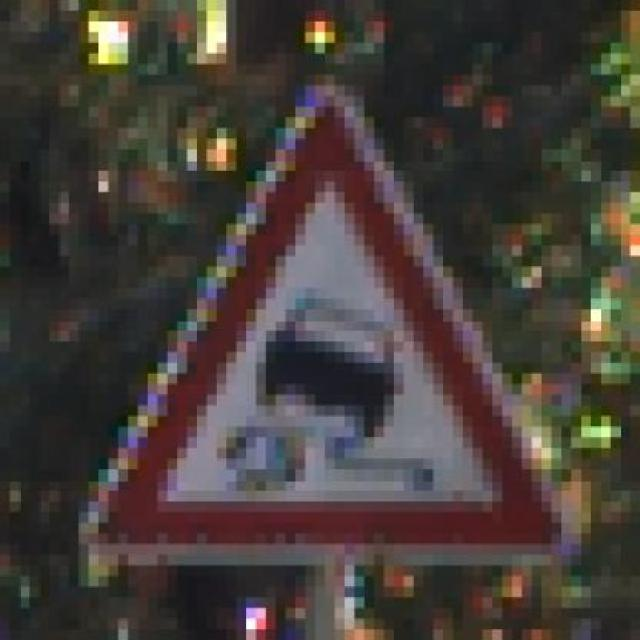Slippery Road Ahead: (59, 75, 572, 576)
